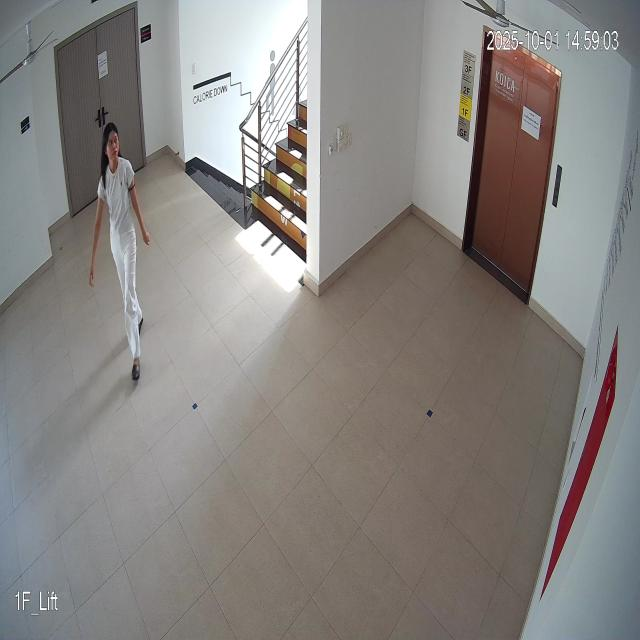face: (97, 118, 124, 166)
